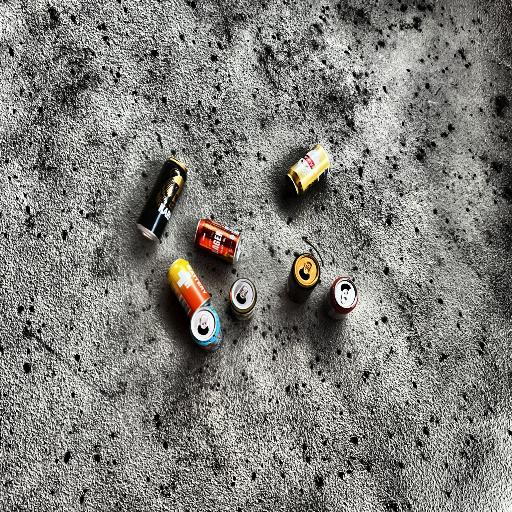A_LeCoq: (278, 136, 337, 198)
coop_larger: (194, 212, 250, 266)
karhu: (127, 147, 189, 250), (279, 249, 320, 312)
koff: (322, 274, 363, 330)
